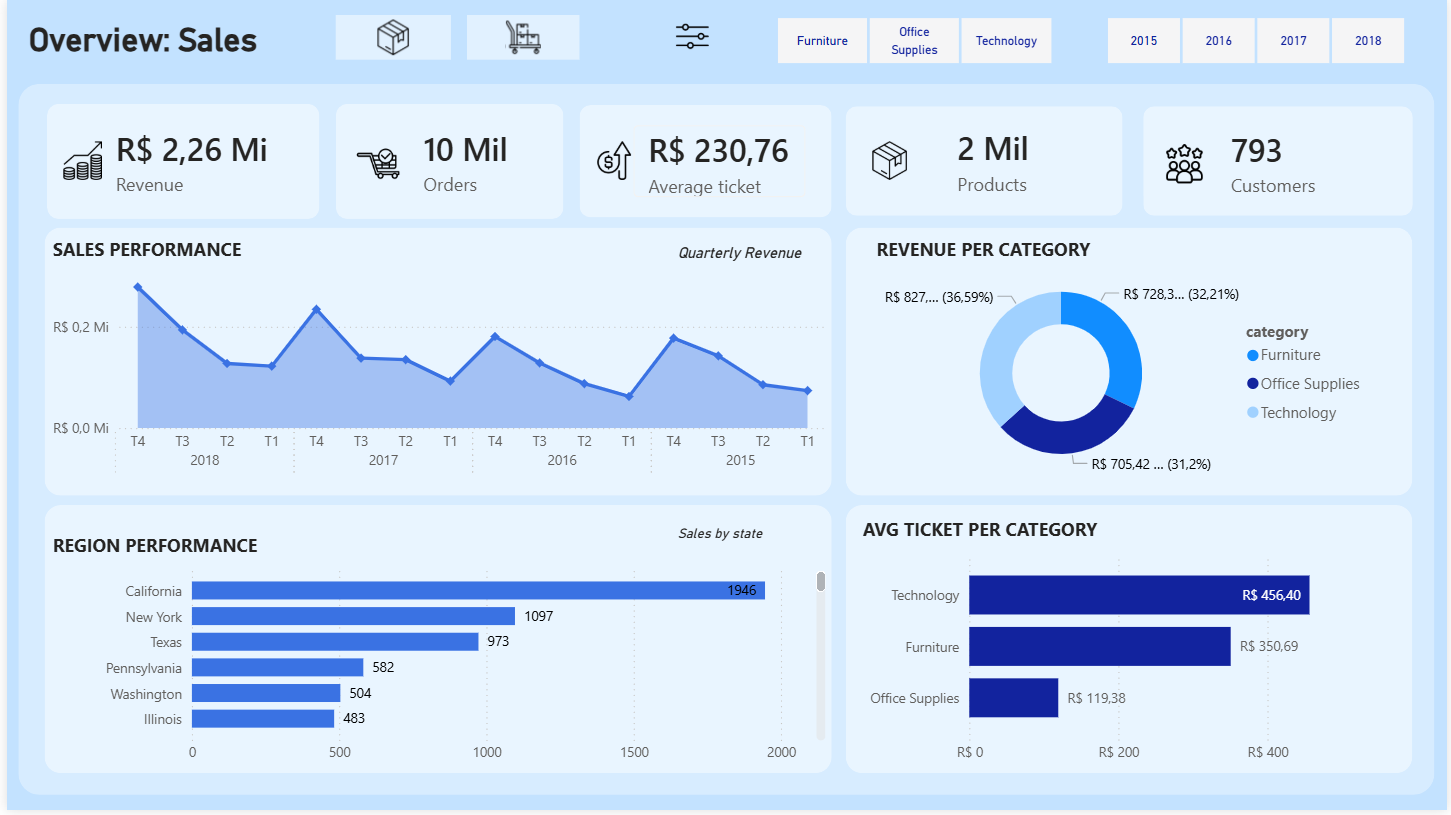

Layout of this report page (visuals, bound fields, positions):
{"tool":"powerbi","page":{"name":"SALES- GERAL","canvas":[1280,720],"ordinal":0},"visuals":[{"type":"shape","box":[10,74.4,1258.9,632.2],"z":0},{"type":"shape","box":[745.9,202.5,503.6,238.4],"z":1000},{"type":"shape","box":[33.3,202.5,699.7,238.4],"z":2000},{"type":"shape","box":[33.3,448.5,699.7,238.4],"z":3000},{"type":"shape","box":[745.9,448.5,503.6,238.4],"z":4000},{"type":"shape","box":[1009.9,94.8,239.6,97.4],"z":5000},{"type":"shape","box":[745.9,94.8,246.1,97.4],"z":6000},{"type":"shape","box":[508.8,93.6,224.3,100],"z":7000},{"type":"shape","box":[292.2,92.3,202.5,102.5],"z":8000},{"type":"shape","box":[35.9,92.3,242.2,102.5],"z":9000},{"type":"cardVisual","fields":{"Data":["public vw_fatvendas.Receita"]},"box":[67.9,92.3,210.2,102.5],"z":10000},{"type":"cardVisual","fields":{"Data":["public vw_fatvendas.Total vendas"]},"box":[340.9,93.6,153.8,100],"z":11000},{"type":"cardVisual","fields":{"Data":["public vw_fatvendas.Ticket medio"]},"box":[539.5,94.8,187.1,98.7],"z":12000},{"type":"areaChart","title":"SALES PERFORMANCE","fields":{"Y":["public vw_fatvendas.Receita"],"Category":["dcalendario.Ano","dcalendario.Trimestre"]},"box":[35.9,210.2,697.2,221.7],"z":13000},{"type":"barChart","title":"REGION PERFORMANCE","fields":{"Category":["public vw_dregiao.estado"],"Y":["public vw_fatvendas.Total vendas"]},"box":[35.9,472.9,697.2,214],"z":14000},{"type":"donutChart","title":"REVENUE PER CATEGORY","fields":{"Y":["public vw_fatvendas.Receita"],"Series":["public vw_dproduto.category"]},"box":[767.6,210.2,448.5,221.7],"z":15000},{"type":"barChart","title":"AVG TICKET PER CATEGORY","fields":{"Category":["public vw_dproduto.category"],"Y":["public vw_fatvendas.Ticket medio"]},"box":[756.1,458.8,481.9,228.1],"z":16000},{"type":"slicer","fields":{"Values":["dcalendario.Ano"]},"box":[952.2,9,314,53.8],"z":17000},{"type":"cardVisual","fields":{"Data":["public vw_dproduto.total de produtos"]},"box":[815.1,94.8,151.2,97.4],"z":18000},{"type":"cardVisual","fields":{"Data":["public vw_dcliente.total clientes"]},"box":[1058.6,94.8,179.4,100],"z":19000},{"type":"textbox","box":[590.8,210.2,135.8,34.6],"z":20000},{"type":"textbox","box":[590.8,458.8,117.9,28.2],"z":21000},{"type":"image","box":[44.9,125.6,46.1,34.6],"z":22000},{"type":"image","box":[306.3,125.6,46.1,39.7],"z":23000},{"type":"image","box":[517.7,125.6,43.6,34.6],"z":24000},{"type":"image","box":[733,125.6,102.5,34.6],"z":25000},{"type":"image","box":[1022.7,125.6,48.7,39.7],"z":26000},{"type":"image","box":[560,16.7,98.9,31.1],"z":27000},{"type":"textbox","box":[14.1,12.8,326.8,46.1],"z":28000},{"type":"actionButton","box":[292.2,12.8,102.5,39.7],"z":29000},{"type":"actionButton","box":[408.8,12.8,100,39.7],"z":30000},{"type":"slicer","fields":{"Values":["public vw_dproduto.category"]},"box":[658.9,8.9,293.3,51.1],"z":31000}]}

Visuals, with their boxes in screenshot pixels (x1, y1, x2, y2), scaled from the page's 1280x720 canvas onto the 1451x815 screenshot:
shape: detection(11, 84, 1438, 800)
shape: detection(846, 229, 1416, 499)
shape: detection(38, 229, 831, 499)
shape: detection(38, 508, 831, 778)
shape: detection(846, 508, 1416, 778)
shape: detection(1145, 107, 1416, 218)
shape: detection(846, 107, 1125, 218)
shape: detection(577, 106, 831, 219)
shape: detection(331, 104, 561, 221)
shape: detection(41, 104, 315, 221)
cardVisual - public vw_fatvendas.Receita: detection(77, 104, 315, 221)
cardVisual - public vw_fatvendas.Total vendas: detection(386, 106, 561, 219)
cardVisual - public vw_fatvendas.Ticket medio: detection(612, 107, 824, 219)
"SALES PERFORMANCE" areaChart: detection(41, 238, 831, 489)
"REGION PERFORMANCE" barChart: detection(41, 535, 831, 778)
"REVENUE PER CATEGORY" donutChart: detection(870, 238, 1379, 489)
"AVG TICKET PER CATEGORY" barChart: detection(857, 519, 1403, 778)
slicer - dcalendario.Ano: detection(1079, 10, 1435, 71)
cardVisual - public vw_dproduto.total de produtos: detection(924, 107, 1095, 218)
cardVisual - public vw_dcliente.total clientes: detection(1200, 107, 1403, 221)
textbox: detection(670, 238, 824, 277)
textbox: detection(670, 519, 803, 551)
image: detection(51, 142, 103, 181)
image: detection(347, 142, 399, 187)
image: detection(587, 142, 636, 181)
image: detection(831, 142, 947, 181)
image: detection(1159, 142, 1215, 187)
image: detection(635, 19, 747, 54)
textbox: detection(16, 14, 386, 67)
actionButton: detection(331, 14, 447, 59)
actionButton: detection(463, 14, 577, 59)
slicer - public vw_dproduto.category: detection(747, 10, 1079, 68)
